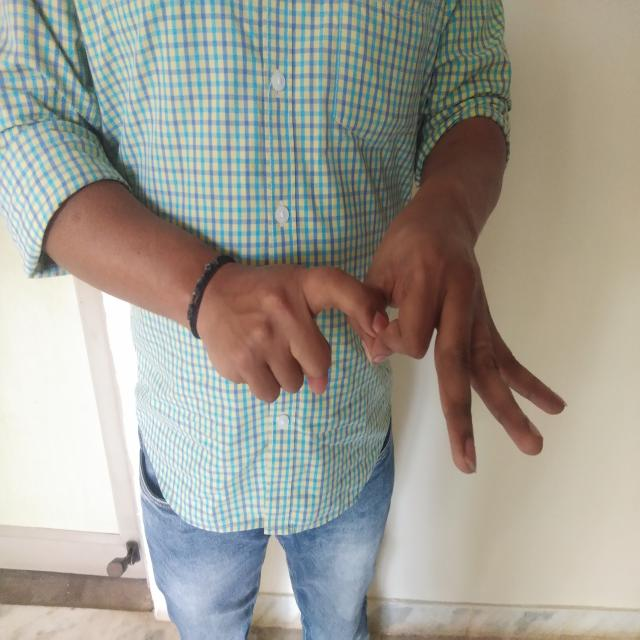Q: (181, 190, 597, 509)
